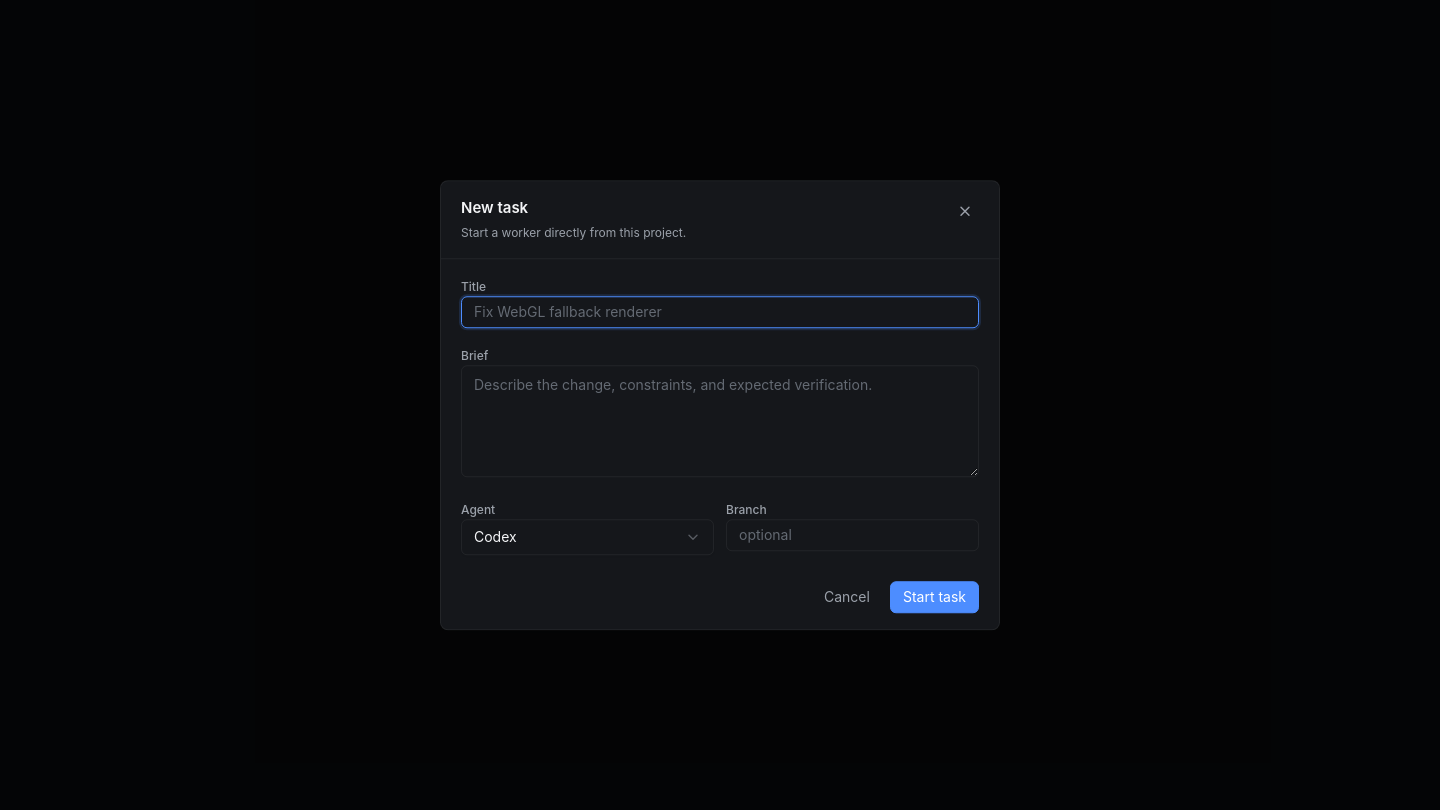
Test: NewTaskDialog › requires both title and brief
This screenshot has width=1440, height=810.
Step 1. Click the button "Start task" → (934, 597), box [890,581,979,613]
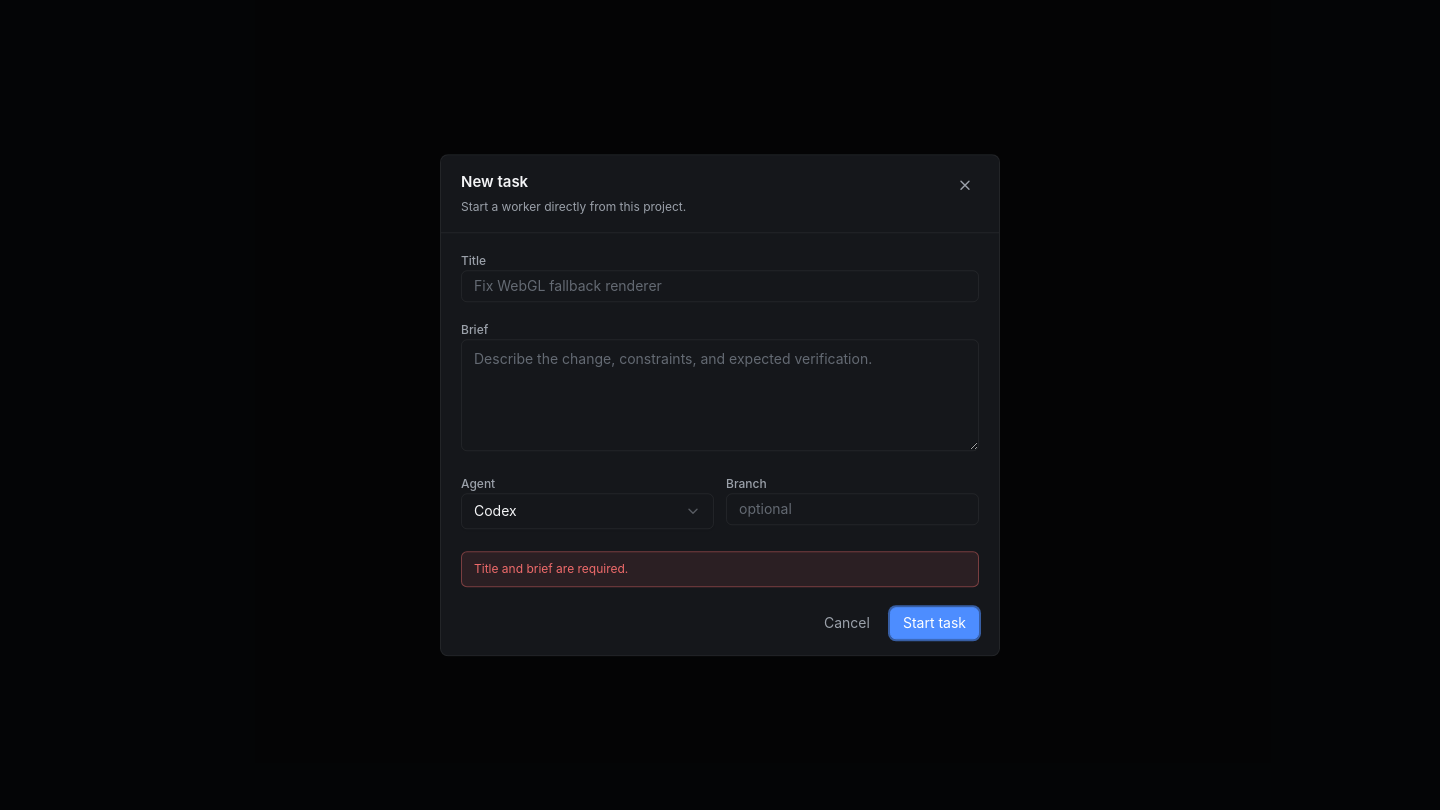
Expected: the text "Title and brief are required." is shown, [461,551,979,587]
